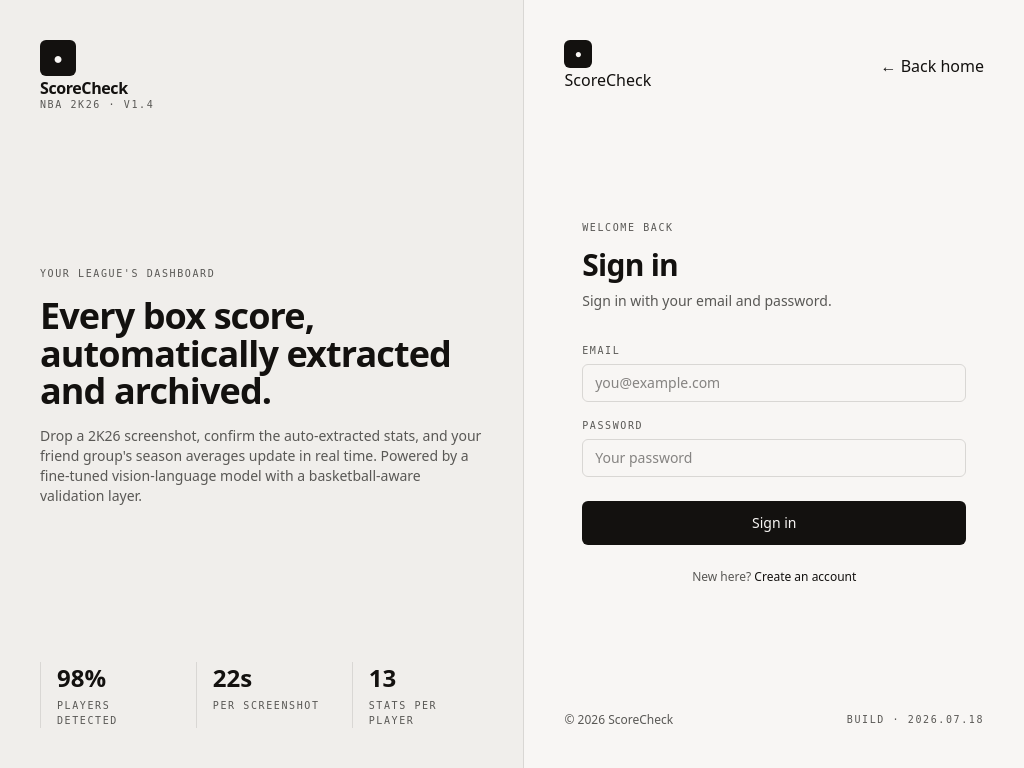
Scenario: submission state › ignores a programmatic re-submit while one is in flight
Later steps or results of the test are not shown.
Step 1. Type "akif@test.local" into the field labelled "Email" → [774, 382], box [582, 364, 966, 402]
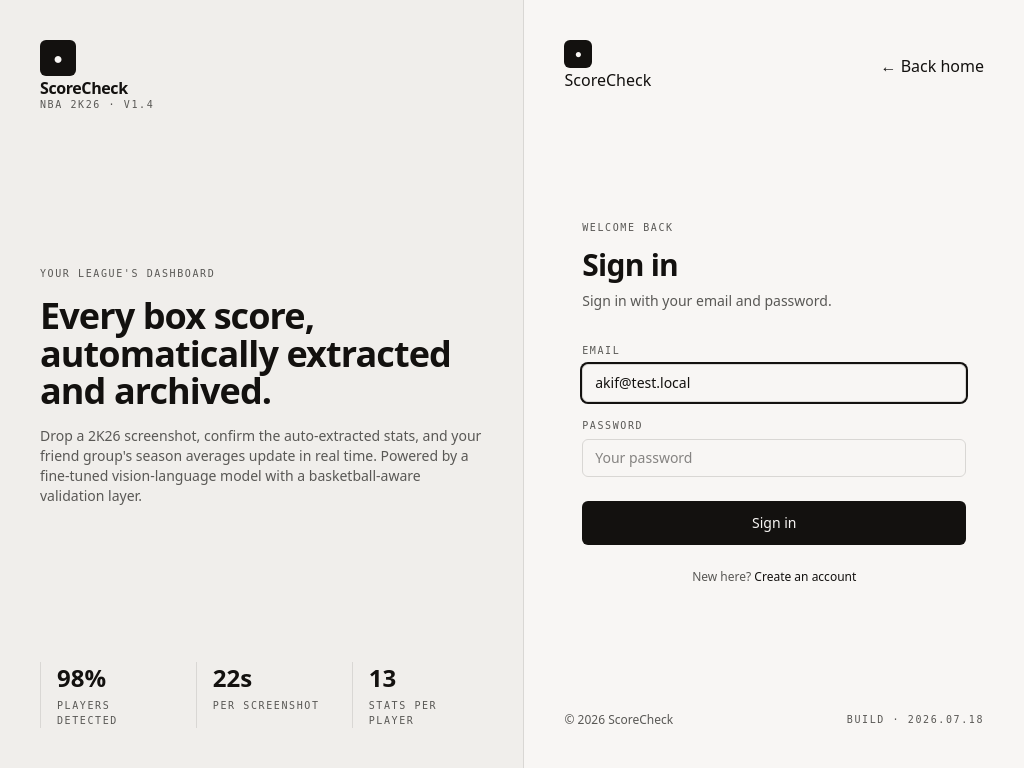
Step 2. Type "hunter2000" into the password field labelled "Password" → [774, 458], box [582, 438, 966, 476]
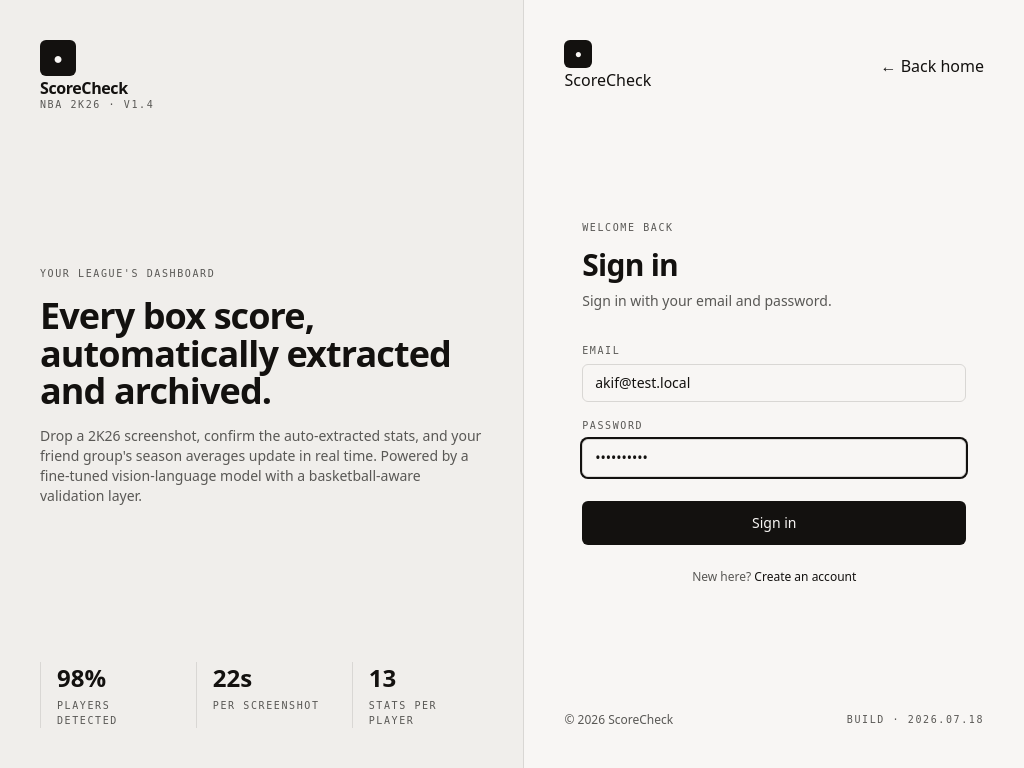
Step 3. Submit the form labelled "Email", box [582, 342, 966, 544]
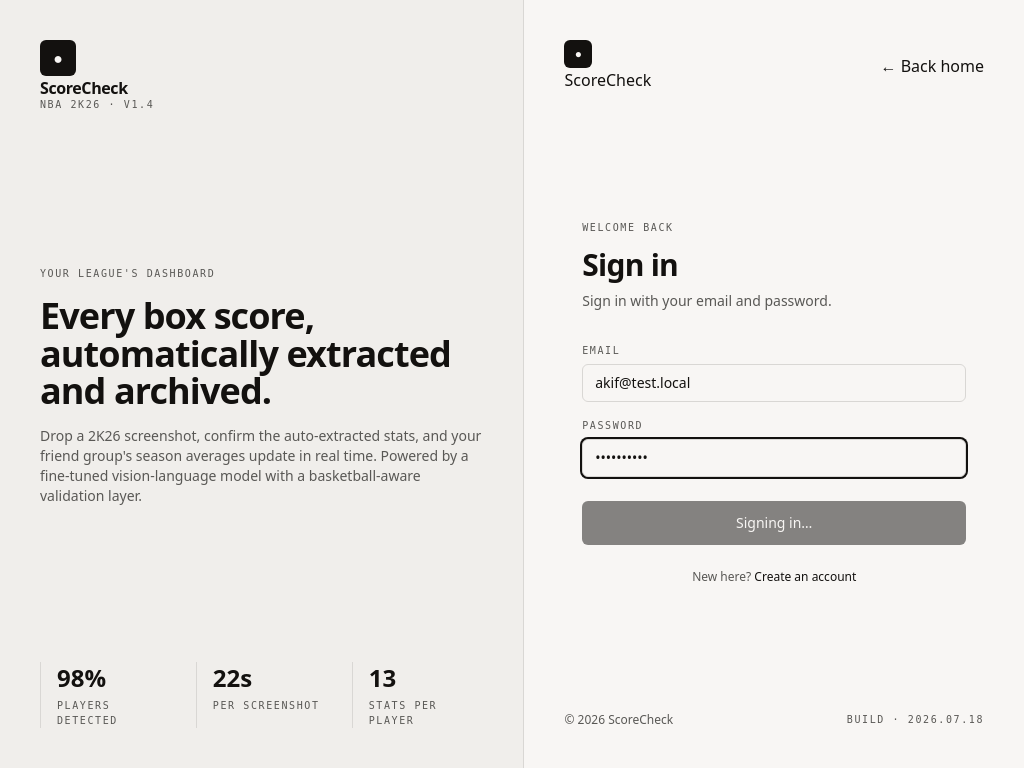
Check: the button "Signing in…" is shown, box [582, 500, 966, 544]
